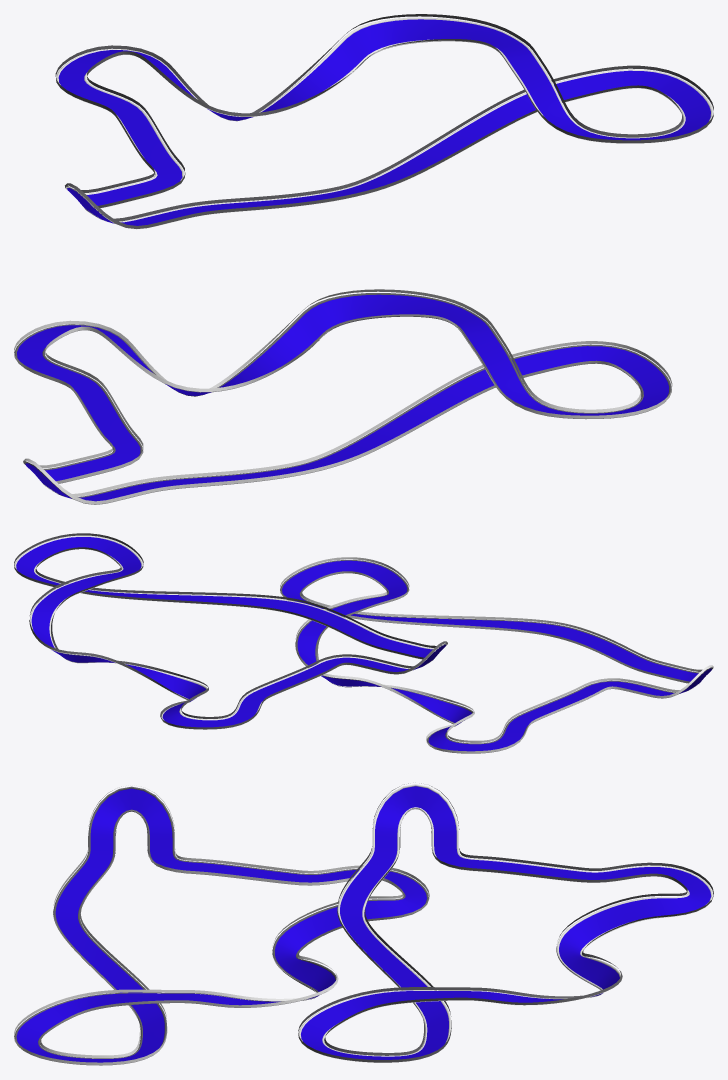
File: RaceTrack.fbx
The picture shows the model from 3 angles, top to bottom: view 1: azimuth 30°, elevation 25°; view 2: azimuth 150°, elevation 25°; view 3: azimuth 270°, elevation 25°; orthographic projection. The views are drawn at different scales.
Visible parts, largest first — view 1: BezierCurve.001, BezierCurve; view 2: BezierCurve.001, BezierCurve; view 3: BezierCurve.001, BezierCurve.
Boxes of the visible parts, x1=… form: BezierCurve.001: x1=55, y1=14, x2=713, y2=229; BezierCurve: x1=14, y1=289, x2=672, y2=504; BezierCurve.001: x1=14, y1=533, x2=447, y2=729; BezierCurve: x1=280, y1=557, x2=713, y2=753; BezierCurve.001: x1=298, y1=783, x2=713, y2=1062; BezierCurve: x1=14, y1=786, x2=429, y2=1065.
Bounding box in the file's own units: 2716 × 554 × 2364.
